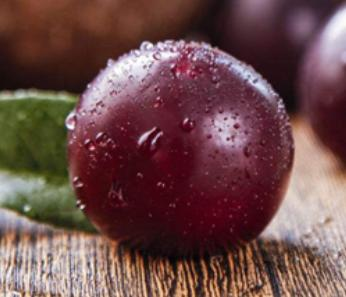plum_A: (67, 41, 294, 257)
